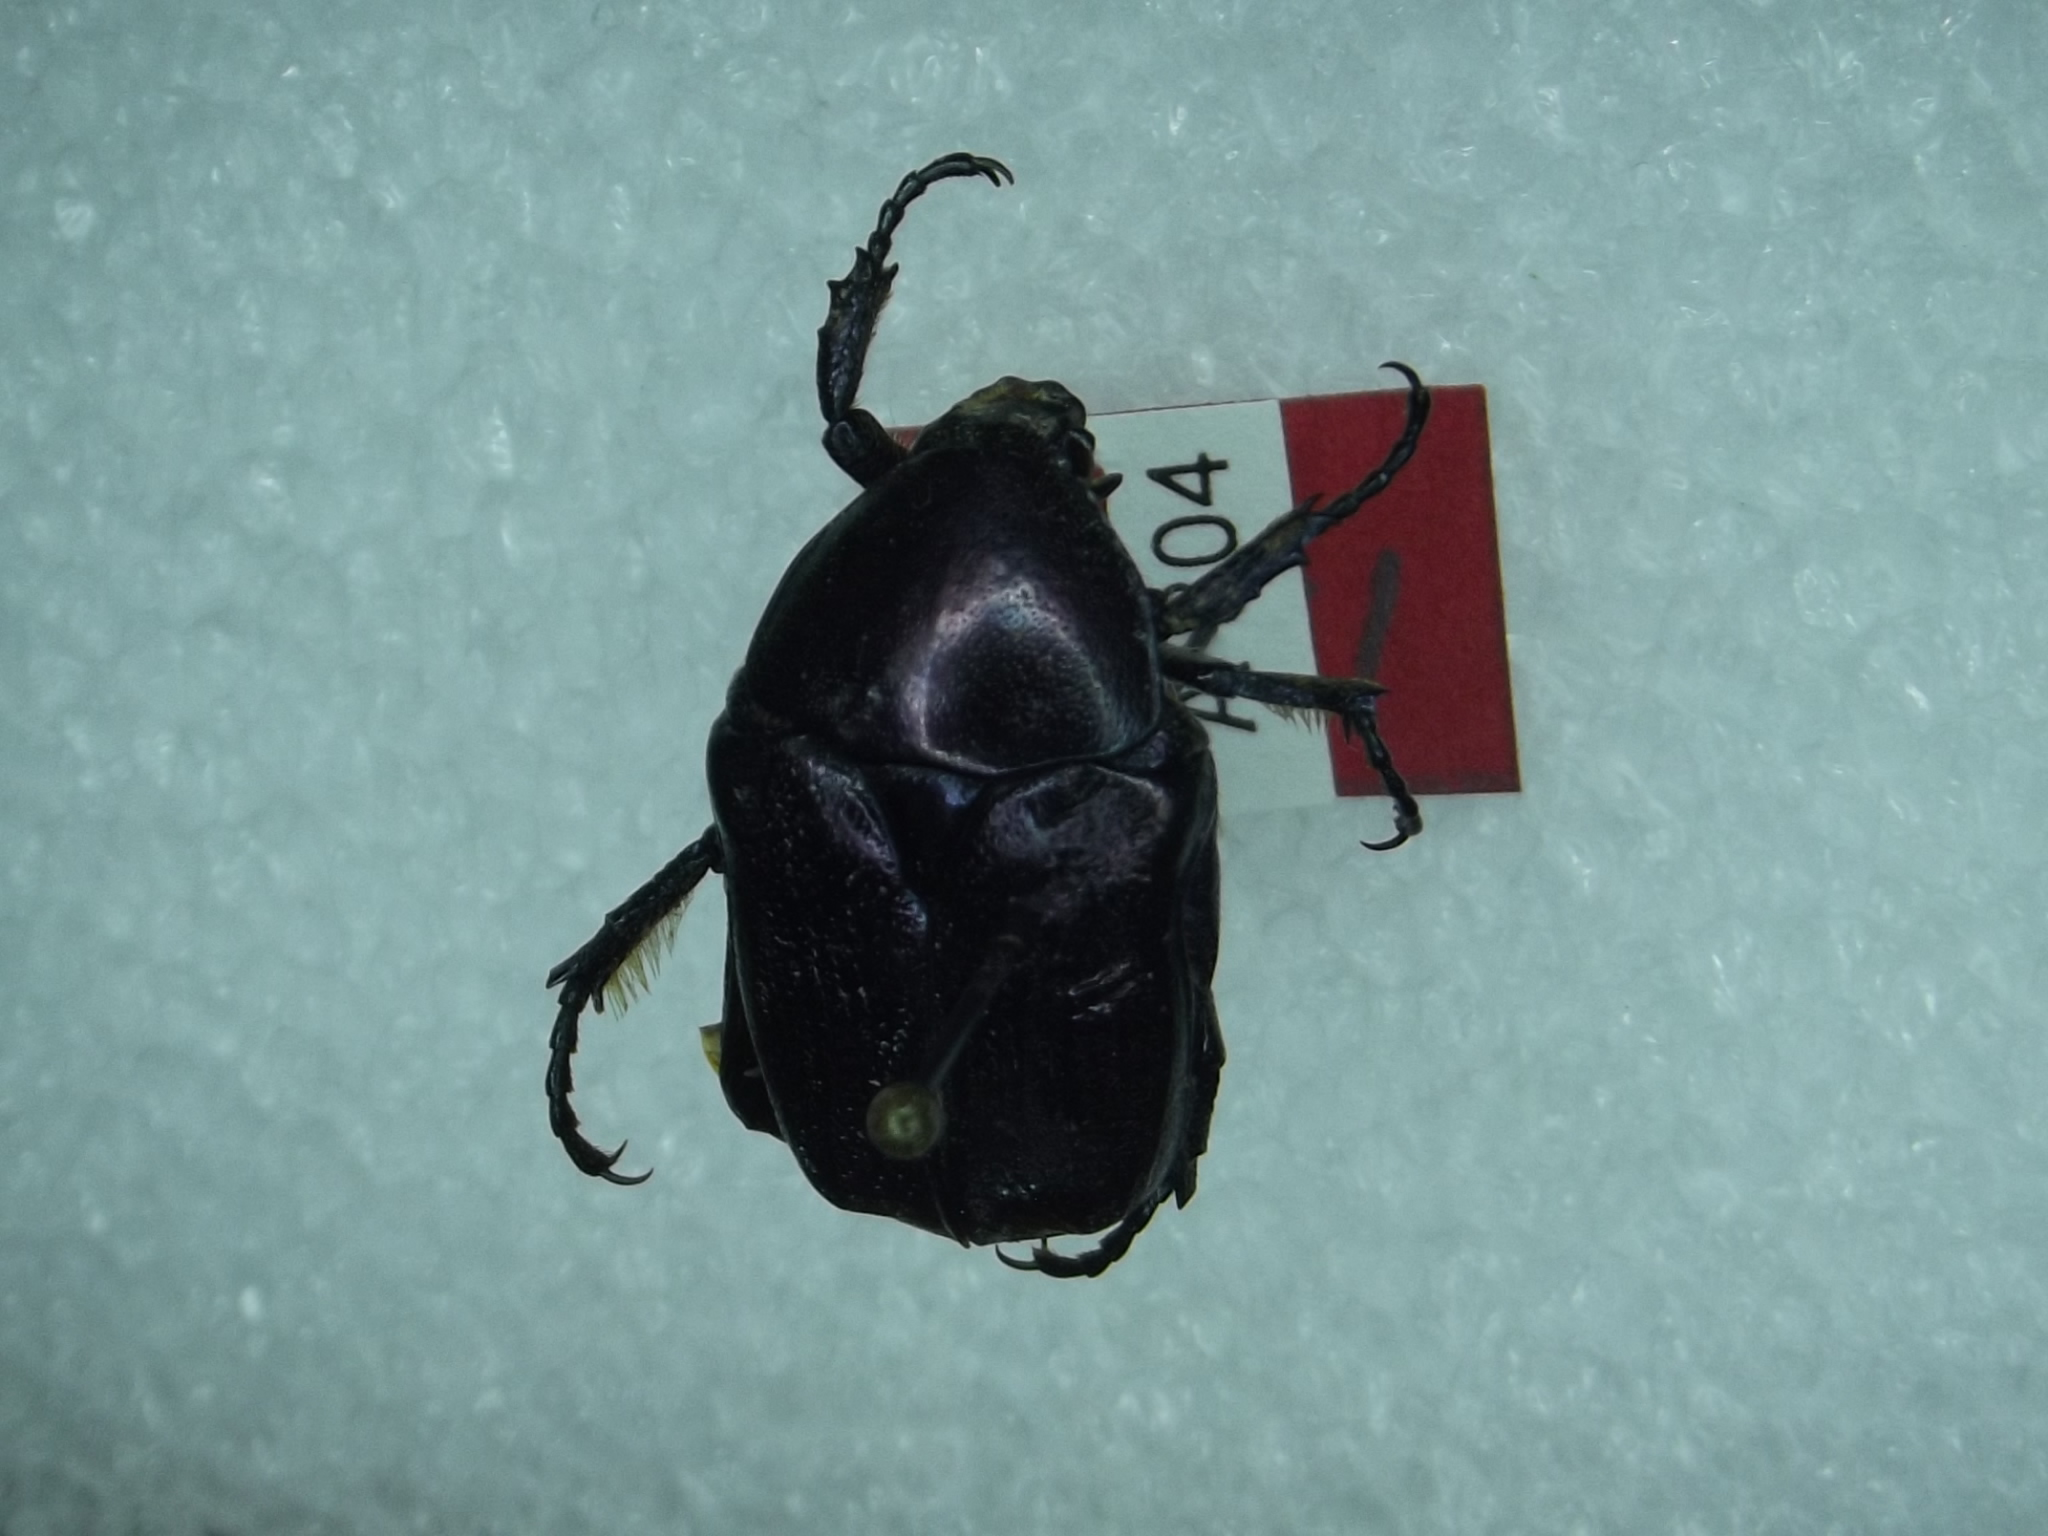Protaetia_besucheti: (519, 119, 1447, 1310)
